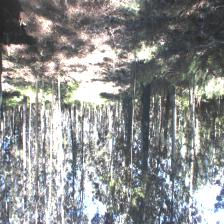trunktrack_idkeyframe: (142, 93, 150, 141), (171, 94, 177, 144), (22, 95, 28, 144), (35, 78, 39, 144)
